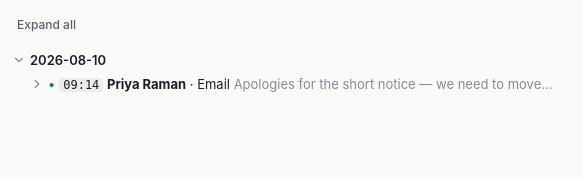
a log of records › previews a folded row without repeating it when the row is open
Expected: the text "Apologies for the short notice — we need to move…" is shown once, [230, 76, 552, 92]
Click the button named "09:14 Priya Raman · Email sub-points" at point(37, 84), box [30, 77, 44, 91]
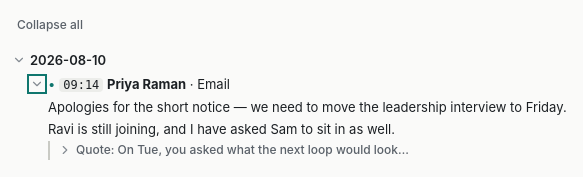
Now the text "Apologies for the short notice" is shown once, box [48, 99, 567, 115]
